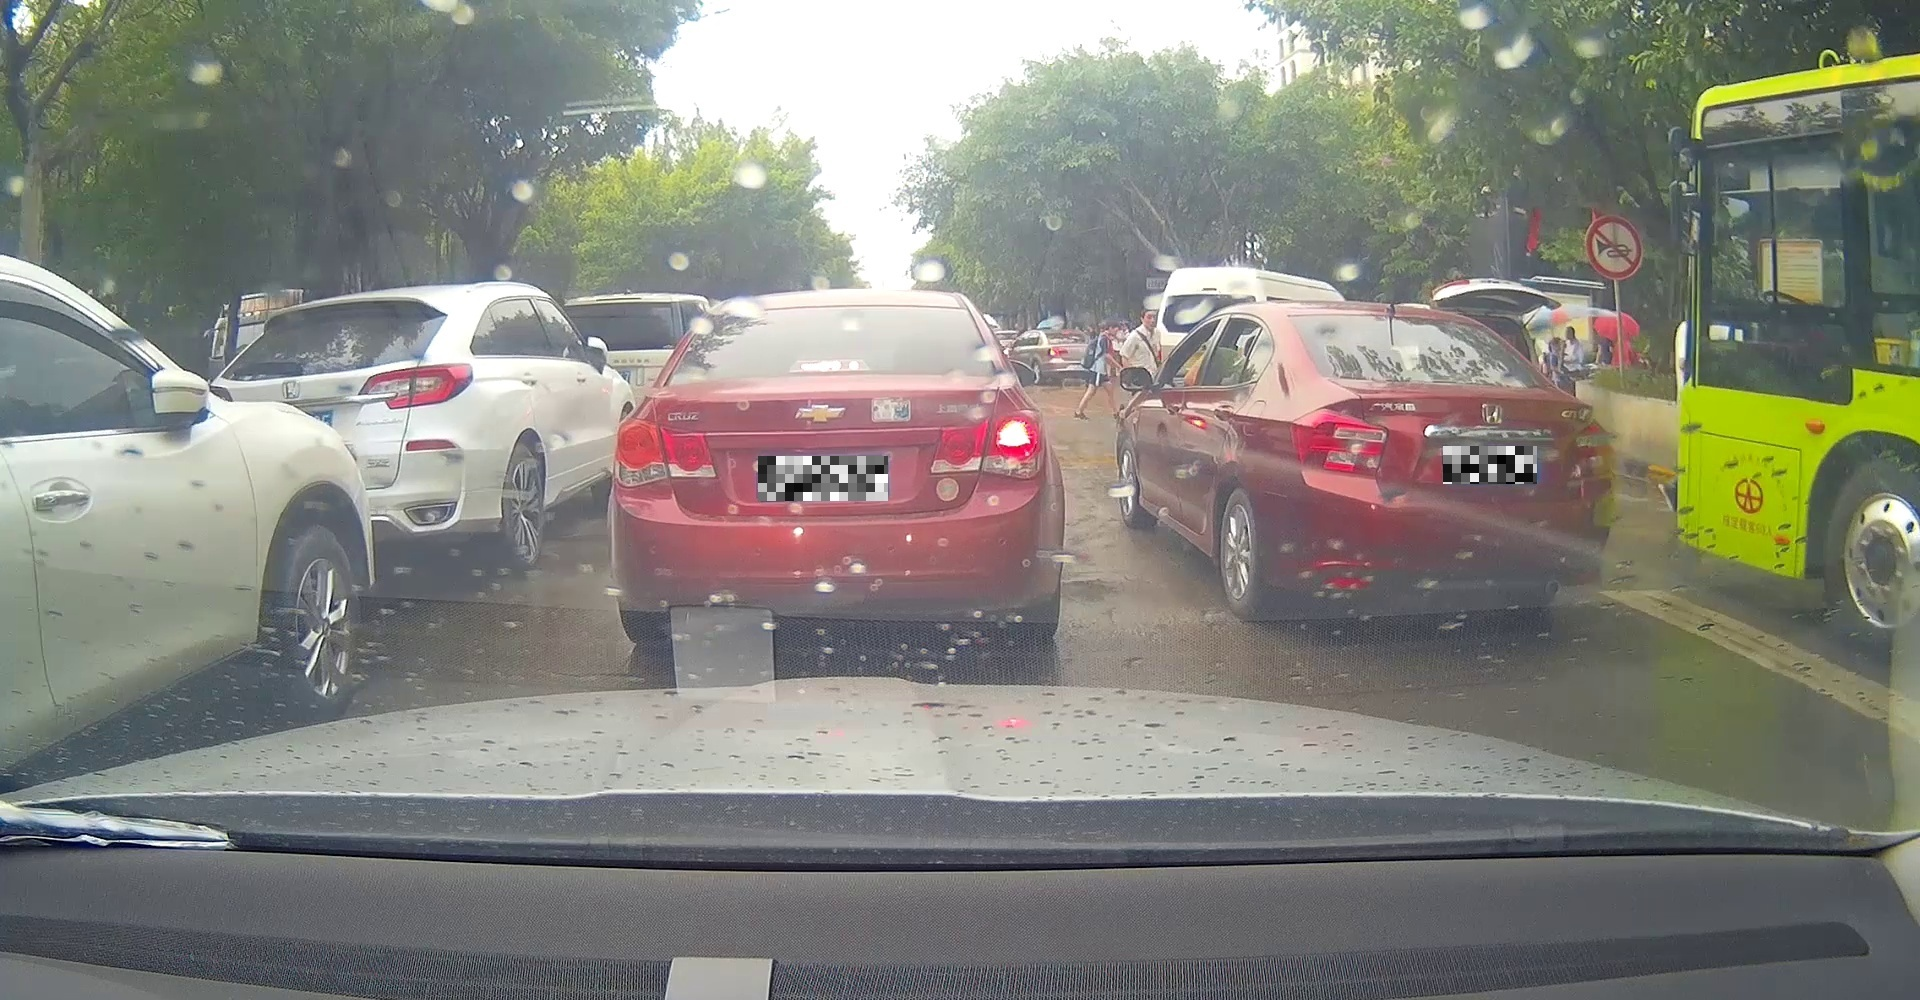L_light: (613, 415, 716, 489), (1290, 409, 1387, 476)
R_light: (930, 410, 1045, 480), (1559, 418, 1615, 481)
T_light: (1429, 372, 1498, 386), (789, 360, 869, 372)
day-no: (1280, 302, 1617, 622)
day-right: (606, 289, 1065, 641)
plate_1: (758, 456, 888, 501)
plate_2: (1443, 445, 1537, 484)
